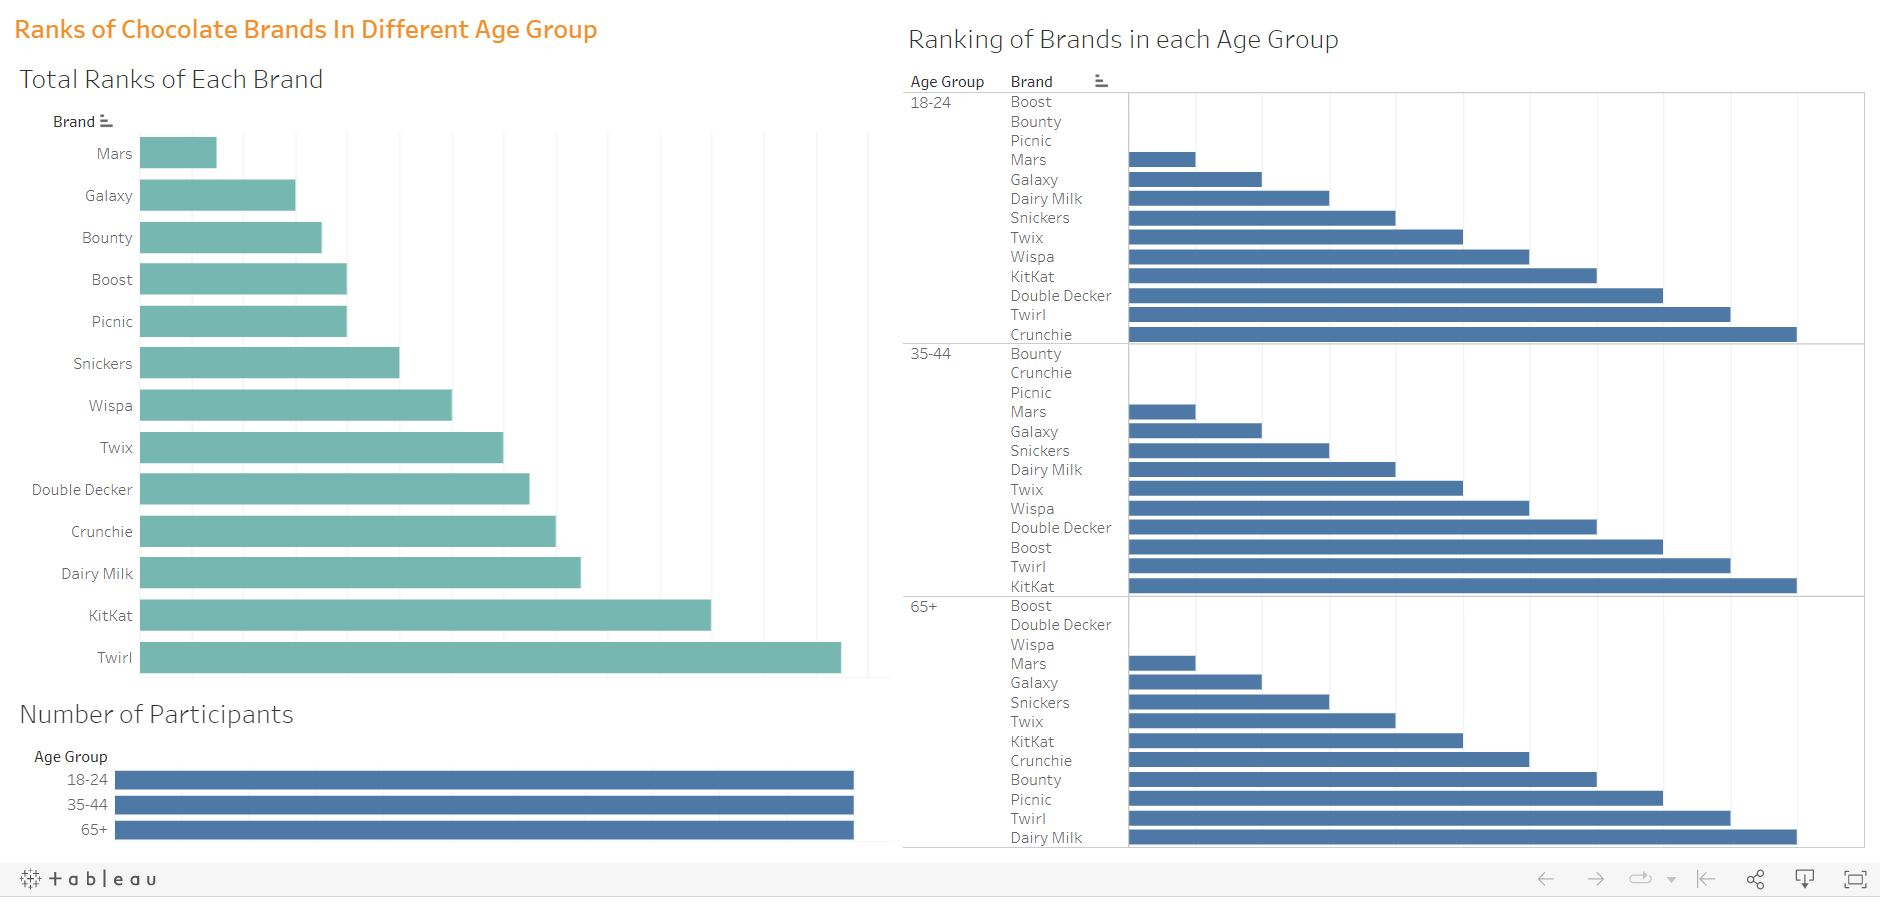

The page's visual inventory and layout, read from the dashboard file:
{"tool":"tableau","page":{"name":"Ranks of Chocolate Brands In Different Age Group","canvas":[1000,1000],"units":"permille","ordinal":0},"visuals":[{"type":"text","box":[4.7,9,473.4,45.9]},{"type":"worksheet","title":"Ranks of Brands in each Age Group","mark":"Automatic","rows":["Age Group","Brand"],"cols":["Rank"],"box":[478,9,517.3,982.1]},{"type":"worksheet","title":"Total Ranks of Each Brand","mark":"Automatic","rows":["Brand"],"cols":["Rank"],"box":[4.7,54.8,473.4,738.2]},{"type":"worksheet","title":"Number of Participants ","mark":"Automatic","rows":["Age Group"],"cols":["Rank"],"box":[4.7,793.1,473.4,198]}]}

Visuals, with their boxes on the dashboard's canvas, which has no fixed pixel size, in thousandths of its width and height (x1, y1, x2, y2). These are canvas units, not pixel positions in the 1887x917 screenshot, which may show the page scaled, cropped or inside an application window:
text: select_region(5, 9, 478, 55)
"Ranks of Brands in each Age Group" worksheet: select_region(478, 9, 995, 991)
"Total Ranks of Each Brand" worksheet: select_region(5, 55, 478, 793)
"Number of Participants " worksheet: select_region(5, 793, 478, 991)
